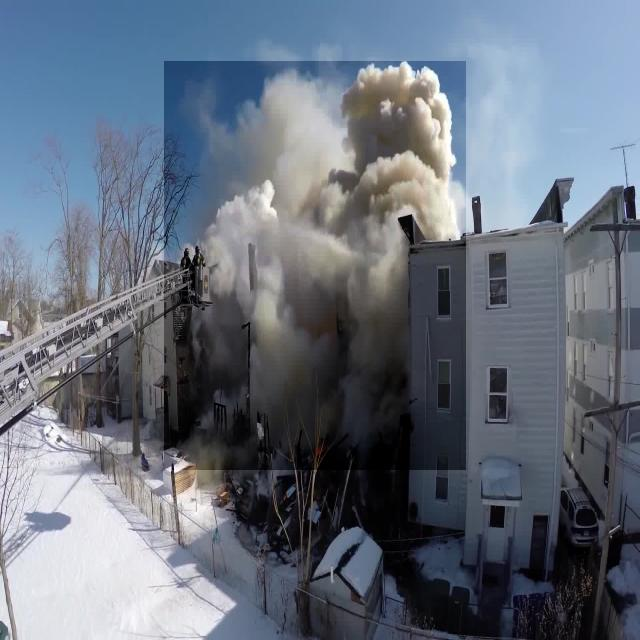Smoke: (164, 61, 466, 470)
